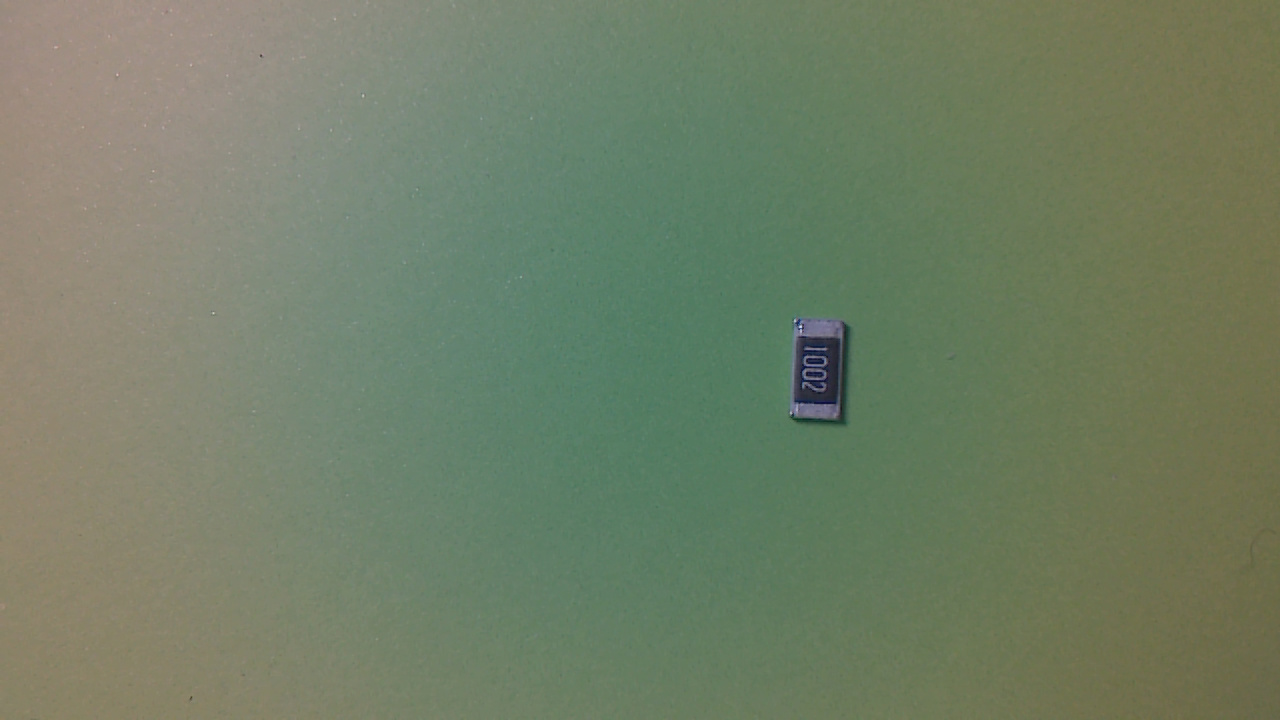Resistor: (793, 319, 857, 432)
